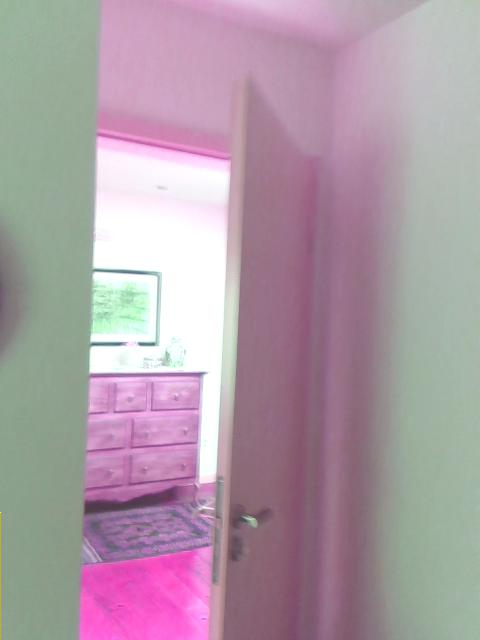semi_door: (77, 68, 309, 637)
